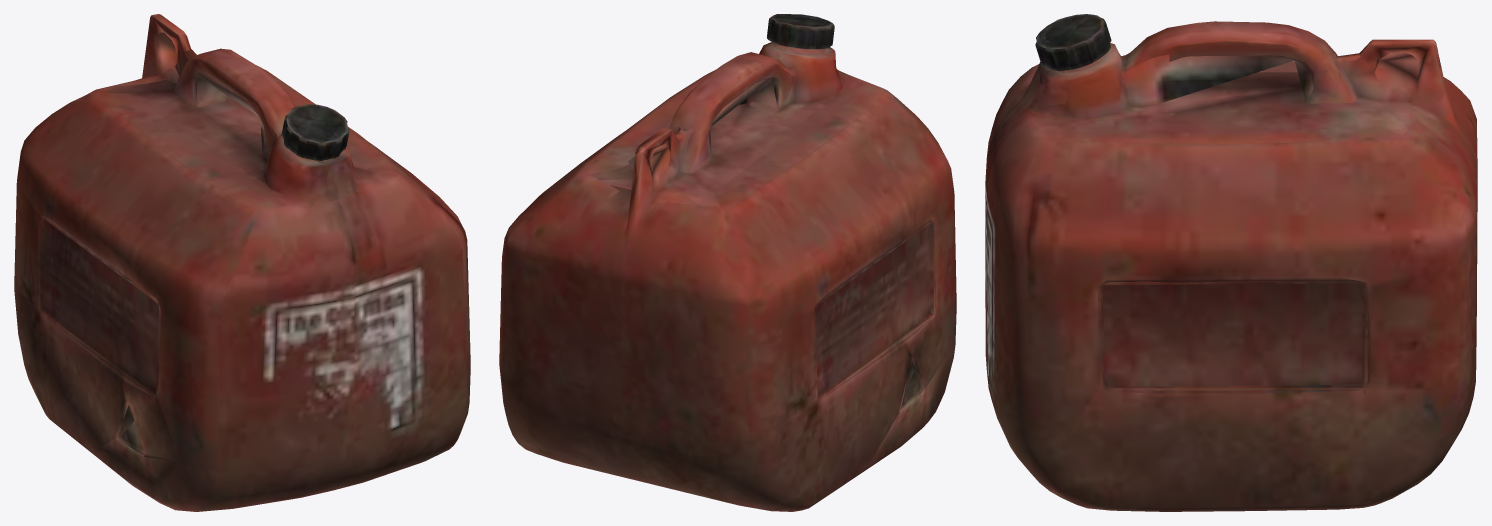
The model's file is plastic_jerrycan.glb.
3 views of the same model, side by side, from view 1: azimuth 30°, elevation 25°; view 2: azimuth 150°, elevation 25°; view 3: azimuth 270°, elevation 25° (orthographic). The views are drawn at different scales.
Visible parts, largest first — view 1: plastic_jerrycan, plastic_jerrycan_lo; view 2: plastic_jerrycan, plastic_jerrycan_lo; view 3: plastic_jerrycan, plastic_jerrycan_lo.
Boxes of the visible parts, x1,y1,x2,y2 form: plastic_jerrycan: (14, 14, 470, 511); plastic_jerrycan_lo: (39, 17, 375, 455); plastic_jerrycan: (499, 14, 956, 511); plastic_jerrycan_lo: (580, 14, 934, 412); plastic_jerrycan: (985, 14, 1477, 511); plastic_jerrycan_lo: (1023, 14, 1462, 394).
Size of the model in its own units: 0.268 by 0.3181 by 0.3406.
1 material, 1 textured.
